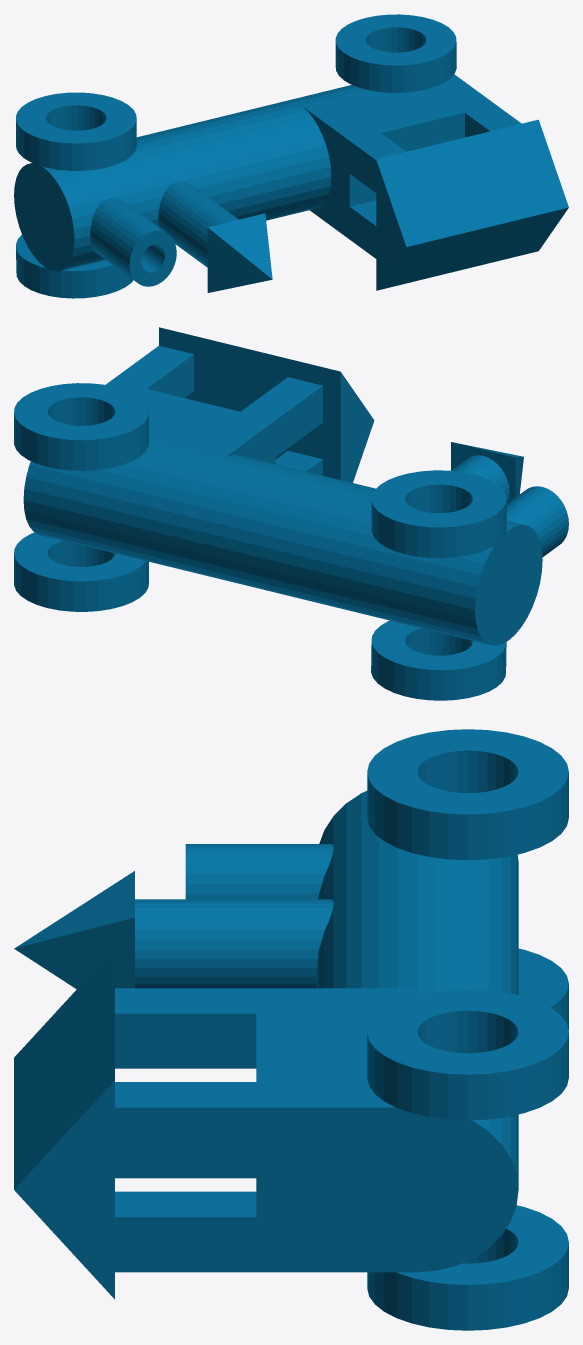
File: tinker.obj
3 views of the same model, one above another, from view 1: azimuth 30°, elevation 25°; view 2: azimuth 150°, elevation 25°; view 3: azimuth 270°, elevation 25° (orthographic). The views are drawn at different scales.
Parts seen in each view (by area): view 1: obj_0; view 2: obj_0; view 3: obj_0.
Boxes of the visible parts, x1,y1,x2,y2 form: obj_0: (14,14,568,298); obj_0: (14,327,568,700); obj_0: (14,729,568,1330).
Bounding box in the file's own units: 81 × 28.35 × 55.
